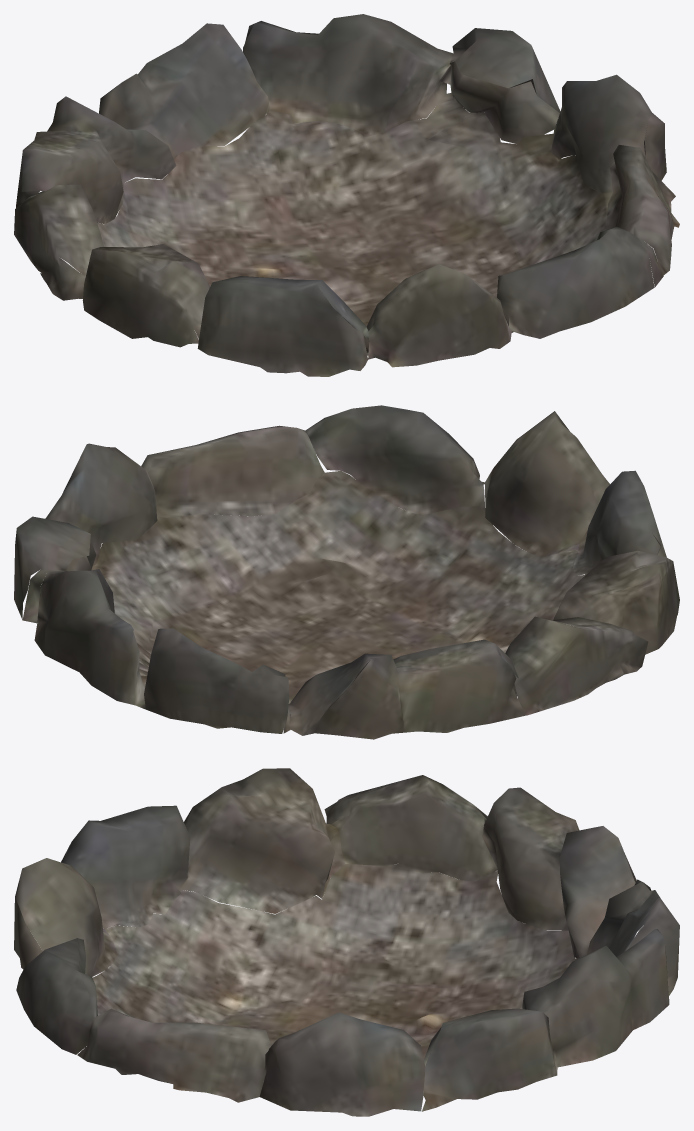
Rendered from prop_campfire.glb.
The picture shows the model from 3 angles, top to bottom: view 1: azimuth 30°, elevation 25°; view 2: azimuth 150°, elevation 25°; view 3: azimuth 270°, elevation 25°; orthographic projection.
Parts seen in each view (by area): view 1: PROP_Campfire; view 2: PROP_Campfire; view 3: PROP_Campfire.
Boxes of the visible parts, bbox=[...] form: PROP_Campfire: bbox=[14, 14, 679, 376]; PROP_Campfire: bbox=[14, 405, 679, 739]; PROP_Campfire: bbox=[14, 768, 679, 1116].
Bounding box in the file's own units: 2.42 × 0.65 × 2.4.
Materials: 1 (1 with a texture image).
